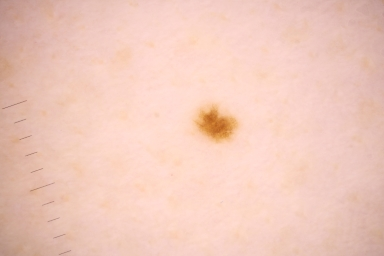nevus: (200, 107, 241, 141)
